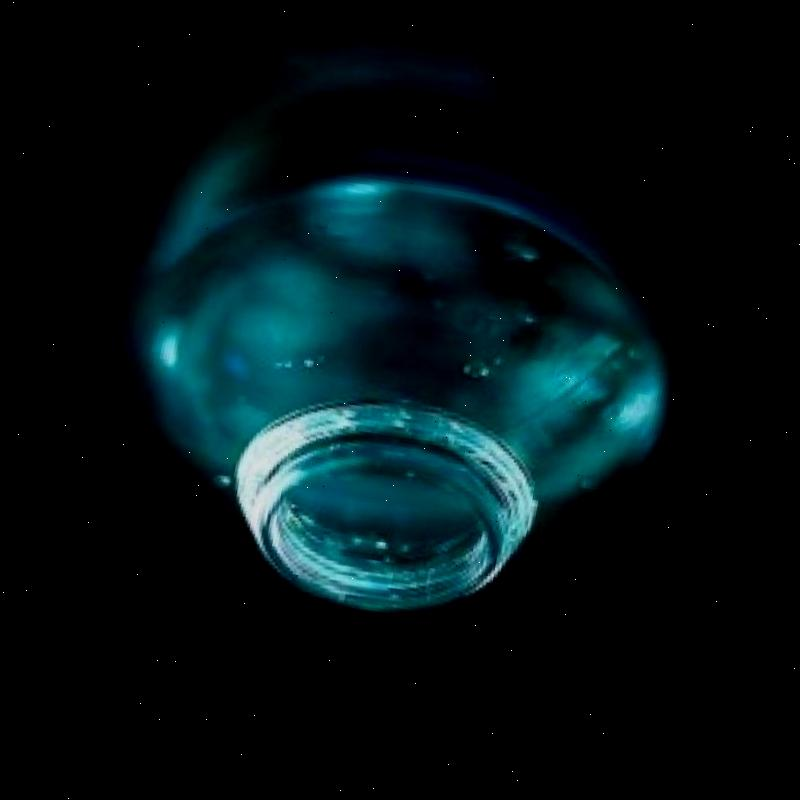botella: (82, 0, 724, 663)
